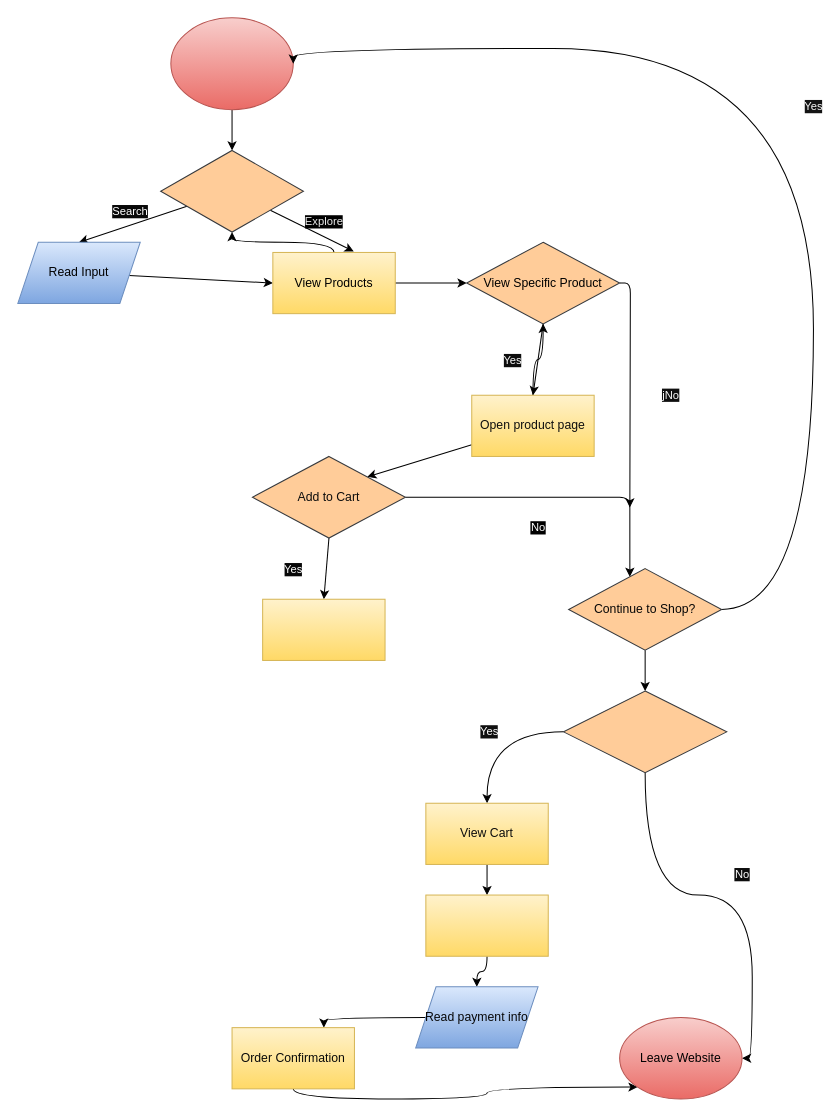
This 840x1117 diagram has some shape labels left out. Here are the shapes that lost their labels. From the top down, the centre of each, then its label:
At [231,63]: "Enter Website".
At [231,190]: "Options".
At [323,629]: "Cart Confirmation".
At [645,731]: "Checkout?".
At [486,925]: "Payment Screen".
